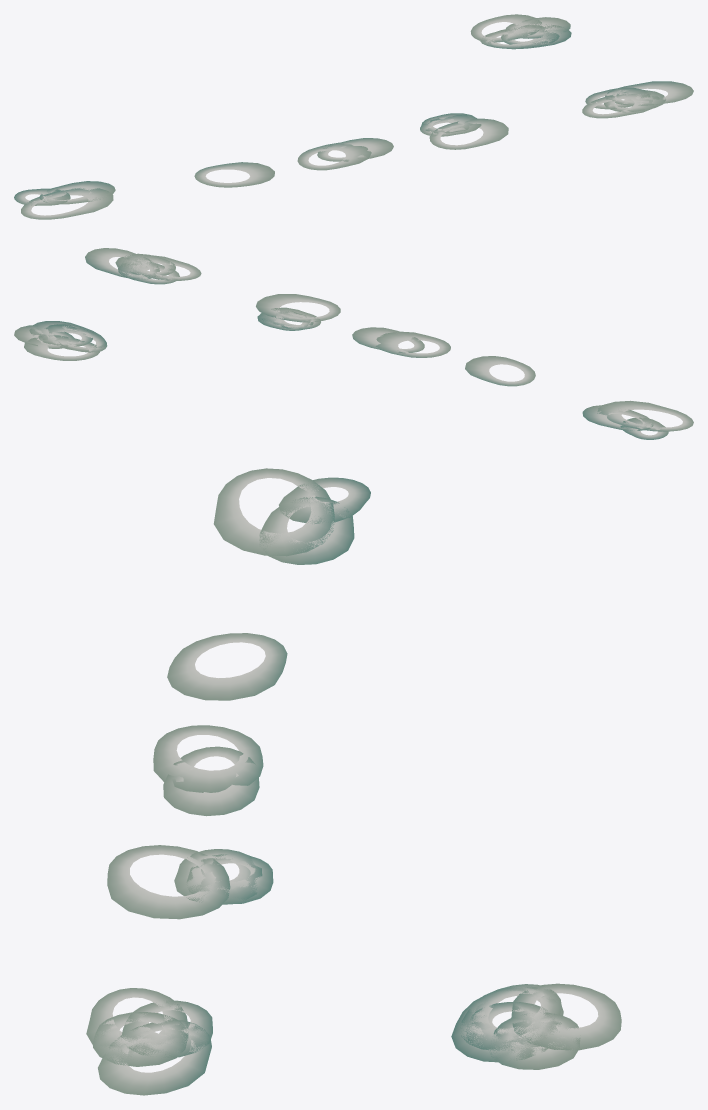
Rendered from SM_BM_BC_WaterFoam.glb.
The picture shows the model from 3 angles, top to bottom: view 1: azimuth 30°, elevation 25°; view 2: azimuth 150°, elevation 25°; view 3: azimuth 270°, elevation 25°; orthographic projection. The views are drawn at different scales.
Parts seen in each view (by area): view 1: SM_BM_BC_WaterFoam; view 2: SM_BM_BC_WaterFoam; view 3: SM_BM_BC_WaterFoam.
Part boxes in pixels (left/top/right/bottom): SM_BM_BC_WaterFoam: left=14, top=14, right=693, bottom=219; SM_BM_BC_WaterFoam: left=14, top=248, right=693, bottom=439; SM_BM_BC_WaterFoam: left=86, top=468, right=621, bottom=1095.
Size of the model in its own units: 111 by 0.6212 by 40.41.
